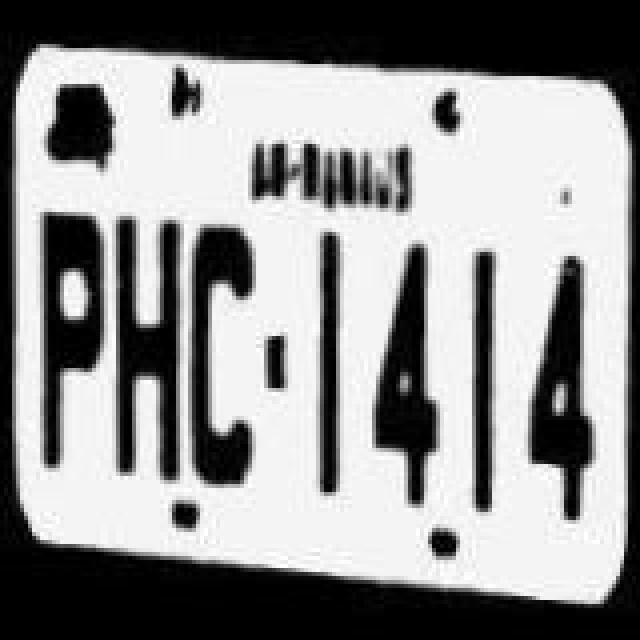1: (300, 226, 360, 502), (462, 248, 510, 512)
4: (518, 236, 598, 520), (370, 230, 450, 510)
C: (186, 218, 266, 494)
H: (106, 200, 186, 496)
P: (28, 204, 112, 492)
